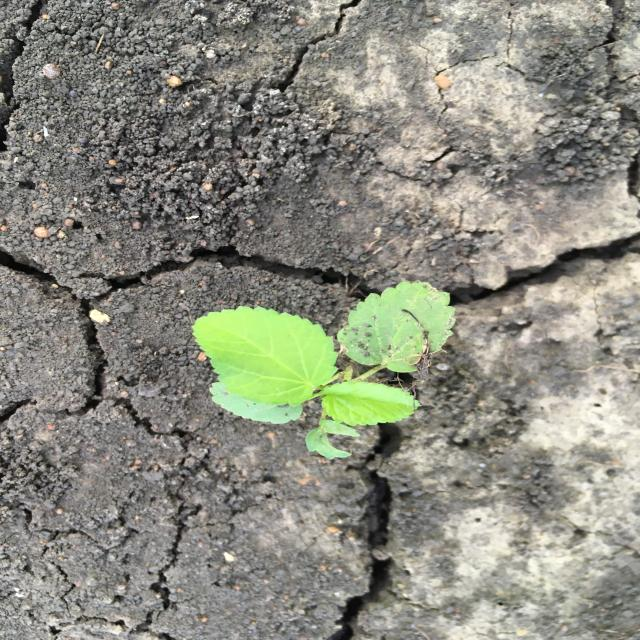PricklySida: (190, 279, 458, 463)
